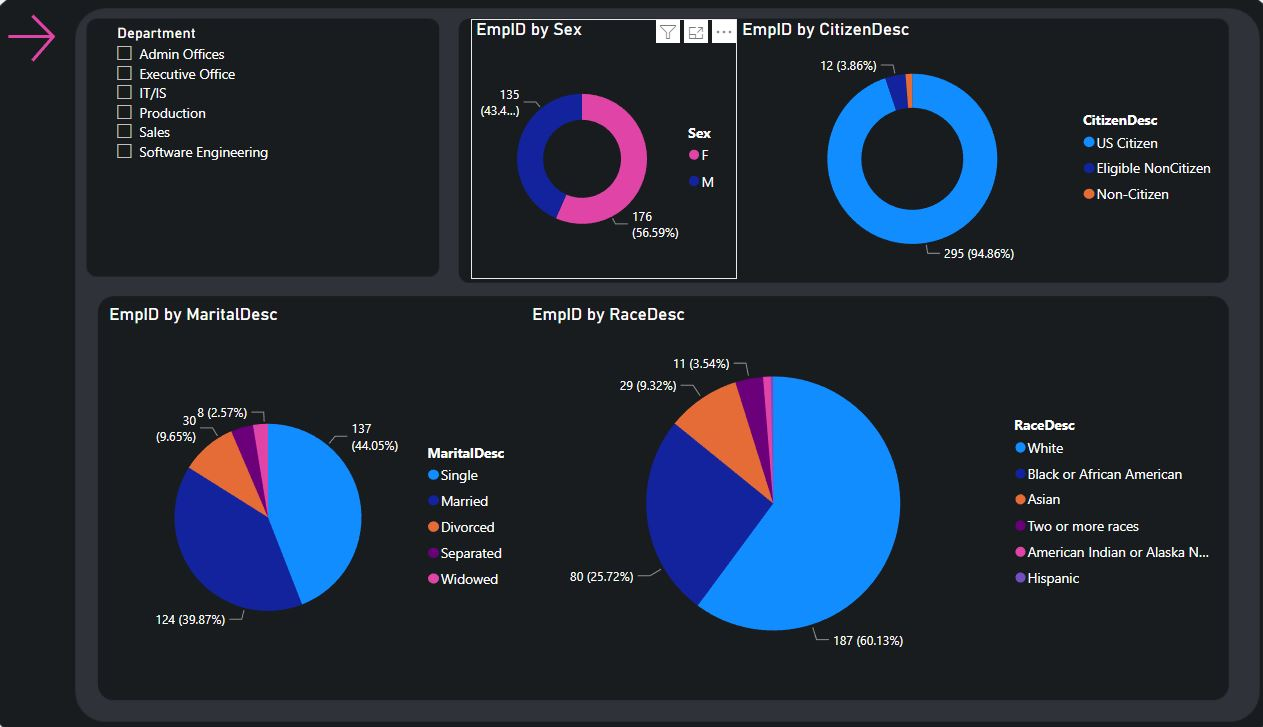

Layout of this report page (visuals, bound fields, positions):
{"tool":"powerbi","page":{"name":"Page 1","canvas":[1280,720],"ordinal":0},"visuals":[{"type":"donutChart","fields":{"Y":["CountNonNull(HRDataset.EmpID)"],"Category":["HRDataset.Sex"]},"box":[499.8,21.3,259,253],"z":0},{"type":"pieChart","fields":{"Y":["CountNonNull(HRDataset.EmpID)"],"Category":["HRDataset.MaritalDesc"]},"box":[143.2,298.7,411.4,396.2],"z":1},{"type":"donutChart","fields":{"Y":["CountNonNull(HRDataset.EmpID)"],"Category":["HRDataset.CitizenDesc"]},"box":[758.9,21.3,475.4,253],"z":2},{"type":"pieChart","fields":{"Y":["CountNonNull(HRDataset.EmpID)"],"Category":["HRDataset.RaceDesc"]},"box":[554.7,298.7,679.6,368.8],"z":3},{"type":"slicer","fields":{"Values":["HRDataset.Department"]},"box":[143.2,21.3,323,253],"z":4},{"type":"actionButton","box":[42.7,0,57.9,79.2],"z":5}]}

Visuals, with their boxes in screenshot pixels (x1, y1, x2, y2), scaled from the page's 1280x720 canvas onto the 1263x727 screenshot:
donutChart - CountNonNull(HRDataset.EmpID) x HRDataset.Sex: BBox(493, 22, 749, 277)
pieChart - CountNonNull(HRDataset.EmpID) x HRDataset.MaritalDesc: BBox(141, 302, 547, 702)
donutChart - CountNonNull(HRDataset.EmpID) x HRDataset.CitizenDesc: BBox(749, 22, 1218, 277)
pieChart - CountNonNull(HRDataset.EmpID) x HRDataset.RaceDesc: BBox(547, 302, 1218, 674)
slicer - HRDataset.Department: BBox(141, 22, 460, 277)
actionButton: BBox(42, 0, 99, 80)
